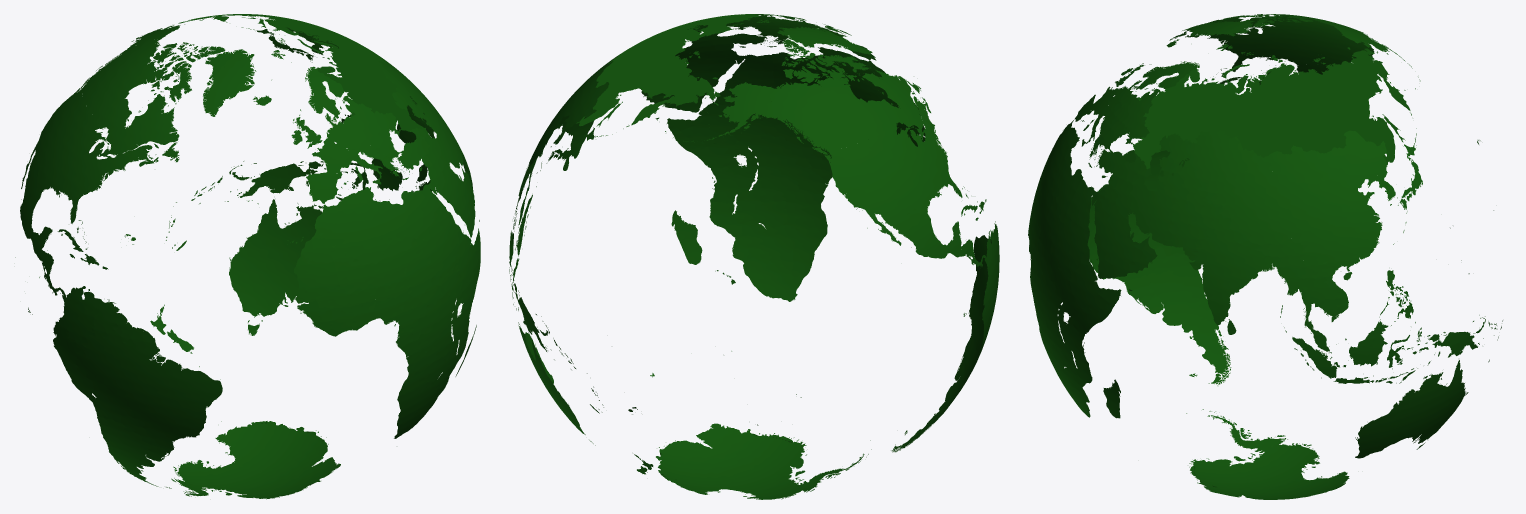
The model's file is world_map2.FBX.
3 views of the same model, side by side, from view 1: azimuth 30°, elevation 25°; view 2: azimuth 150°, elevation 25°; view 3: azimuth 270°, elevation 25° (orthographic).
Parts seen in each view (by area): view 1: BR, CA, AQ, US, AU, RU, DZ, GL, CD, LY, ML, AR (+26 smaller); view 2: US, CA, AQ, RU, CD, MX, ZA, AO, BR, CN, TZ, ET (+20 smaller); view 3: RU, CN, AQ, US, IN, AU, AR, KZ, ID, SA, MN, IR (+21 smaller).
Boxes of the visible parts, bbox=[...] form: BR: bbox=[75, 327, 222, 459]; CA: bbox=[80, 38, 225, 166]; AQ: bbox=[171, 421, 340, 499]; US: bbox=[36, 24, 184, 223]; AU: bbox=[220, 199, 323, 379]; RU: bbox=[178, 14, 421, 131]; DZ: bbox=[321, 189, 392, 267]; GL: bbox=[203, 49, 256, 116]; CD: bbox=[406, 292, 456, 362]; LY: bbox=[377, 191, 430, 241]; ML: bbox=[315, 249, 374, 312]; AR: bbox=[104, 418, 158, 486]; US: bbox=[665, 82, 962, 284]; CA: bbox=[768, 39, 930, 154]; AQ: bbox=[656, 423, 871, 499]; RU: bbox=[576, 14, 778, 137]; CD: bbox=[749, 136, 828, 209]; MX: bbox=[867, 206, 960, 258]; ZA: bbox=[731, 247, 804, 351]; AO: bbox=[779, 178, 829, 230]; BR: bbox=[957, 235, 999, 371]; CN: bbox=[526, 79, 608, 168]; TZ: bbox=[710, 160, 755, 203]; ET: bbox=[679, 103, 737, 143]; RU: bbox=[1132, 47, 1416, 169]; CN: bbox=[1217, 130, 1386, 280]; AQ: bbox=[1186, 409, 1349, 499]; US: bbox=[1204, 23, 1480, 144]; IN: bbox=[1187, 211, 1297, 332]; AU: bbox=[1355, 360, 1466, 458]; AR: bbox=[1140, 252, 1225, 383]; KZ: bbox=[1159, 130, 1262, 186]; ID: bbox=[1292, 322, 1458, 383]; SA: bbox=[1094, 195, 1142, 264]; MN: bbox=[1264, 145, 1352, 184]; IR: bbox=[1129, 172, 1175, 245].
Size of the model in its own units: 39.29 by 39.3 by 39.24.
